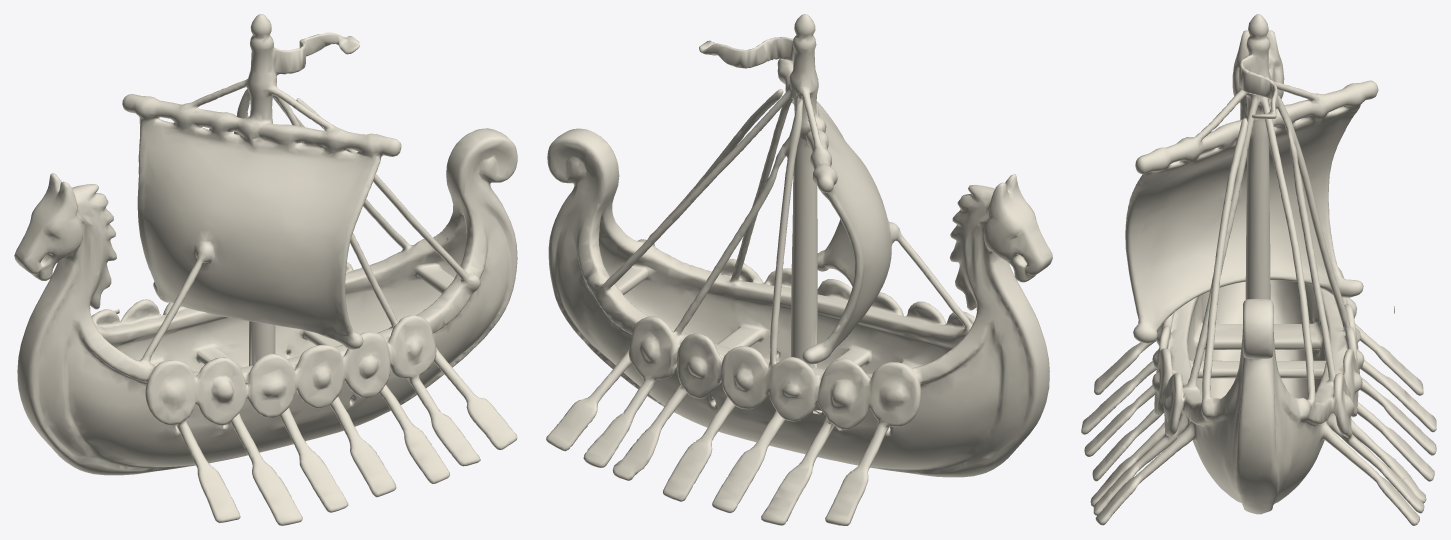
Rendered from ru-ladya.glb.
3 renders of one model, left to right at view 1: azimuth 30°, elevation 25°; view 2: azimuth 150°, elevation 25°; view 3: azimuth 270°, elevation 25°, orthographic. The views are drawn at different scales.
Visible parts, largest first — view 1: world; view 2: world; view 3: world.
Boxes of the visible parts, <box> form: world: <box>14,14,517,525</box>; world: <box>546,14,1052,525</box>; world: <box>1081,14,1436,525</box>.
Size of the model in its own units: 2 by 1.68 by 1.22.
